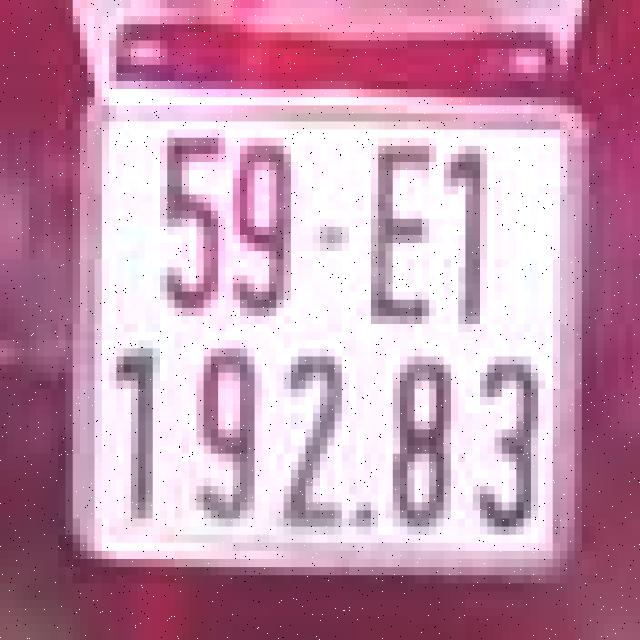1: (98, 332, 164, 543), (447, 134, 498, 328)
2: (276, 336, 349, 539)
3: (472, 324, 552, 543)
5: (149, 126, 229, 320)
8: (371, 340, 458, 551)
9: (226, 126, 306, 328), (186, 340, 266, 535)
E: (345, 134, 440, 344)
